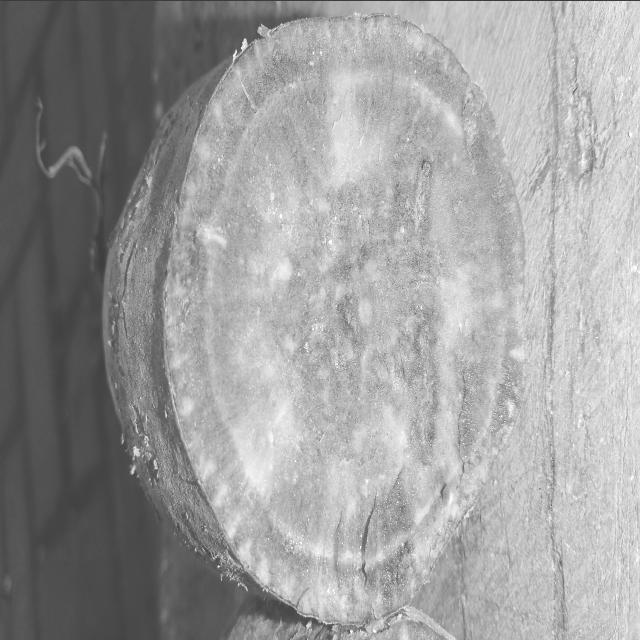Sick Sweet Potato_Tuber Rot: (165, 16, 525, 622)
